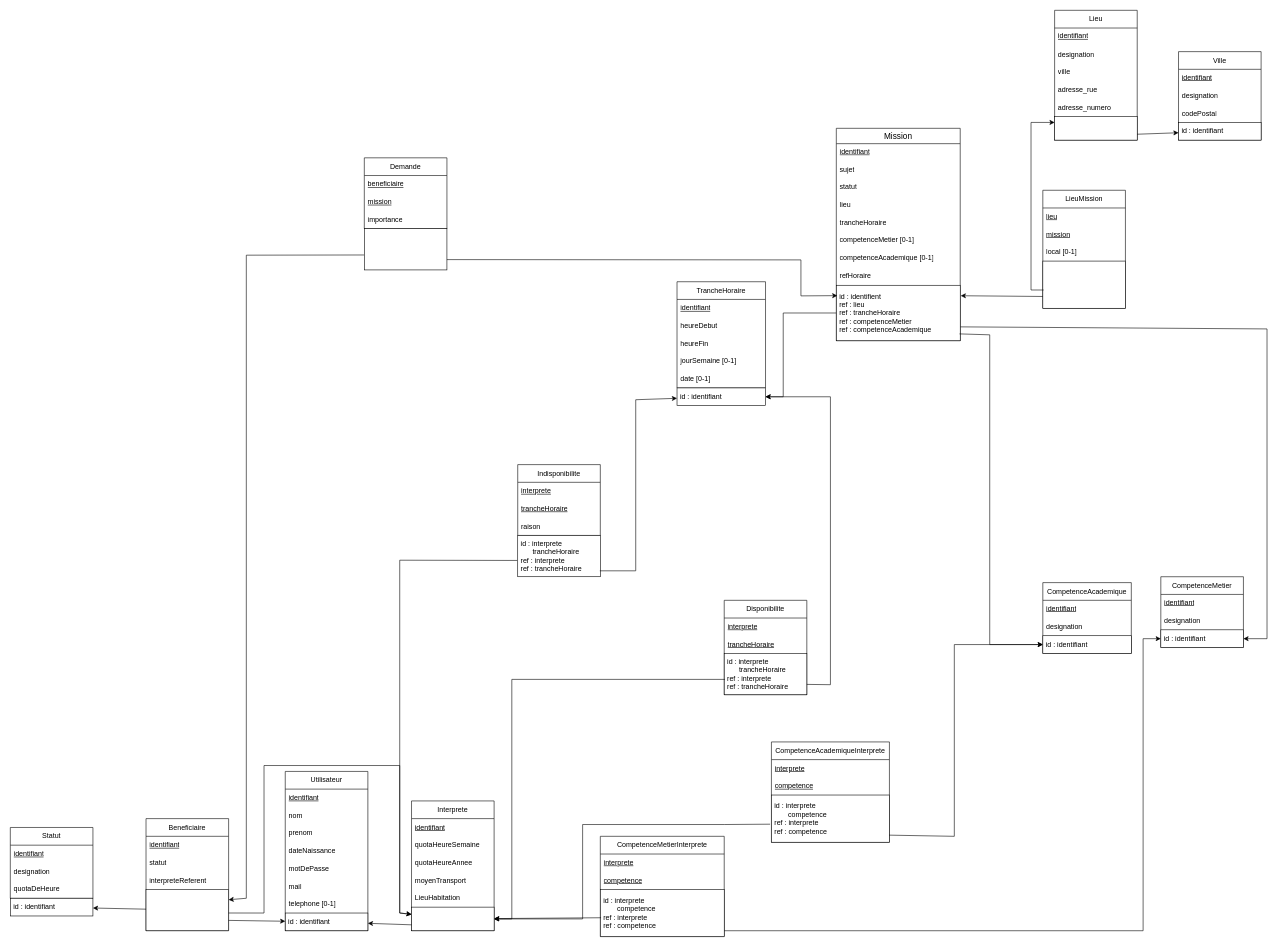
Image size: 1282x947. Some labels were removed from this diagram. Here are the shapes that lost their labels. From the top down, the centre of each, then its label:
At [1095,128]: "id : identifiant ref : ville".
At [405,249]: "id : beneficiaire mission ref : beneficiaire ref : mission".
At [1083,284]: "id : lieu mission ref : lieu ref : mission".
At [187,910]: "id : identifiant ref : statut ref : interpreteReferent ref : identifiant".
At [452,919]: "id : identifiant ref : identifiant".
